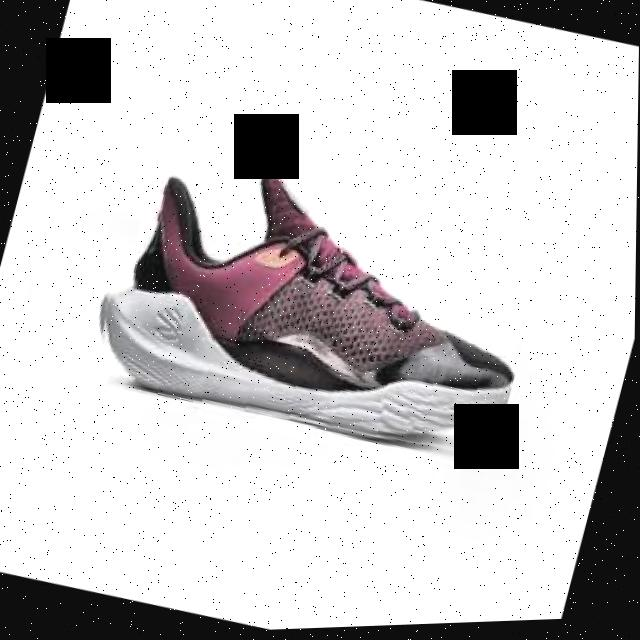shoe: (82, 138, 553, 482)
